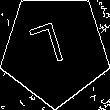L_S: (34, 21, 76, 78)
